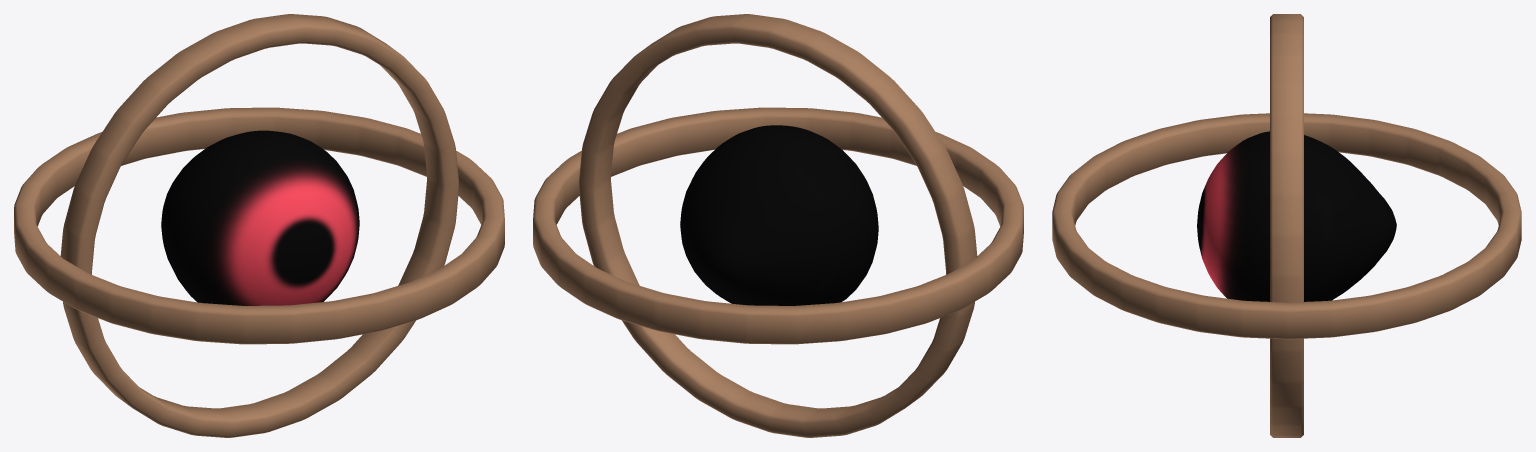
Rendered from AngelNoWings.fbx.
The picture shows the model from 3 angles, left to right: view 1: azimuth 30°, elevation 25°; view 2: azimuth 150°, elevation 25°; view 3: azimuth 270°, elevation 25°; orthographic projection. The views are drawn at different scales.
Parts seen in each view (by area): view 1: AngelNoWings; view 2: AngelNoWings; view 3: AngelNoWings.
Part boxes in pixels (x1=…): AngelNoWings: x1=14, y1=14, x2=504, y2=437; AngelNoWings: x1=533, y1=14, x2=1023, y2=437; AngelNoWings: x1=1052, y1=14, x2=1521, y2=437.
Size of the model in its own units: 486 by 439 by 486.
